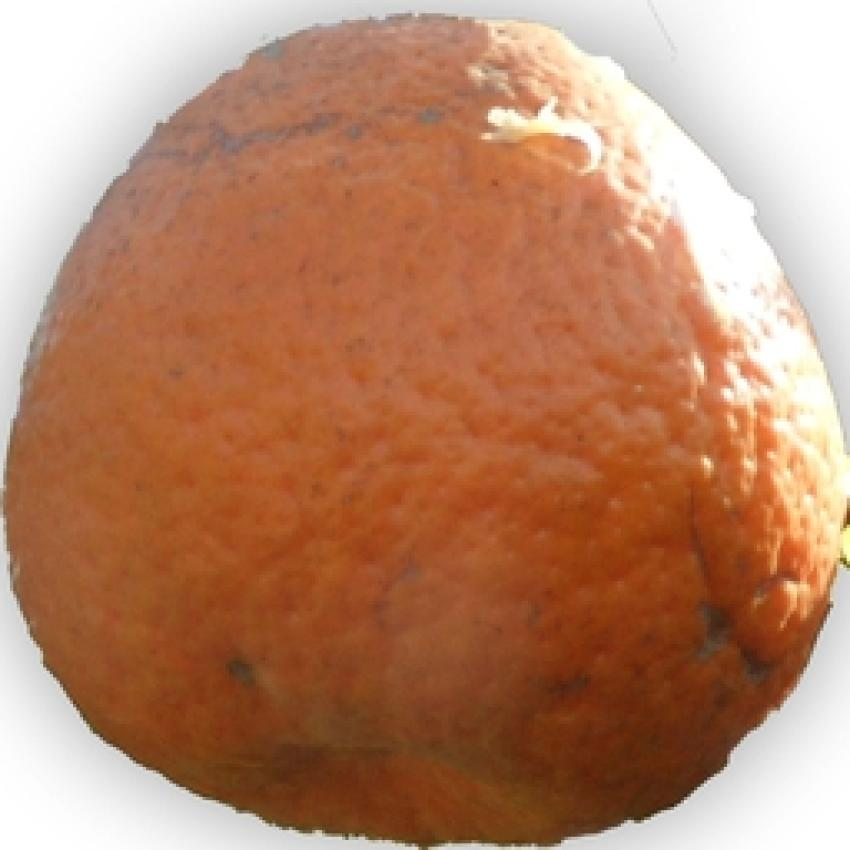Mal estado: (0, 0, 827, 847)
